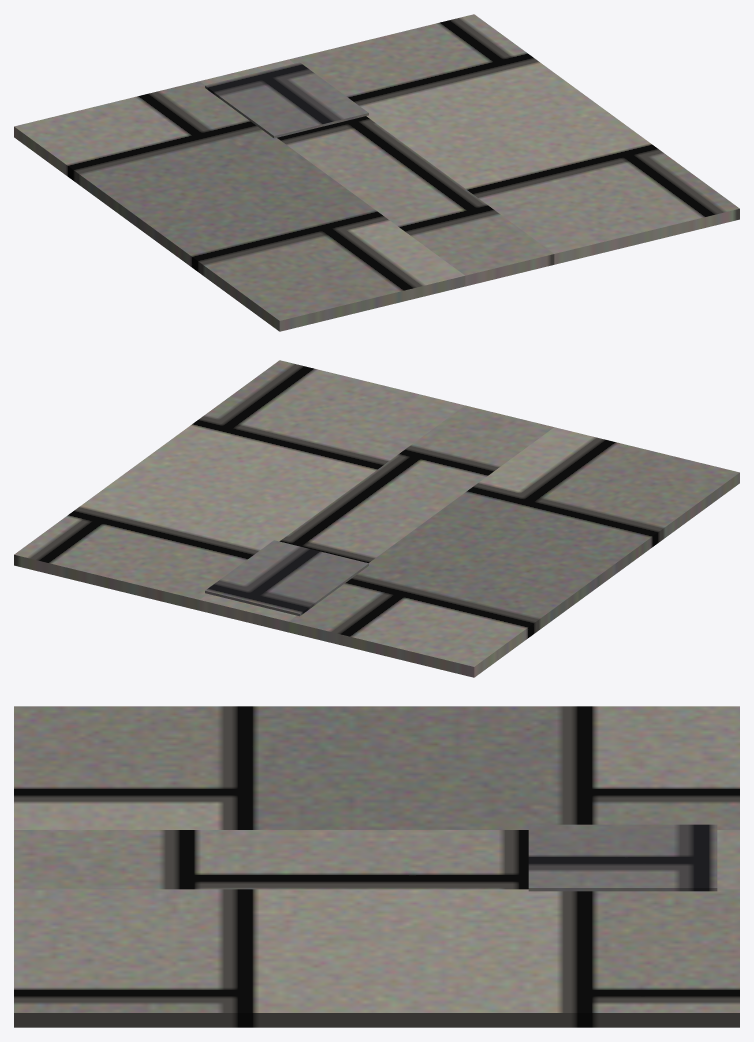
File: CastleKeepFloorL2.glb
3 renders of one model, top to bottom at view 1: azimuth 30°, elevation 25°; view 2: azimuth 150°, elevation 25°; view 3: azimuth 270°, elevation 25°, orthographic. The views are drawn at different scales.
Parts seen in each view (by area): view 1: CastleKeepFloorL2; view 2: CastleKeepFloorL2; view 3: CastleKeepFloorL2.
Part boxes in pixels (x1,y1,x2,y2): CastleKeepFloorL2: [14, 14, 739, 331]; CastleKeepFloorL2: [14, 360, 739, 677]; CastleKeepFloorL2: [14, 706, 739, 1027].
Bounding box in the file's own units: 8 × 0.22 × 8.
2 materials, 2 textured.
